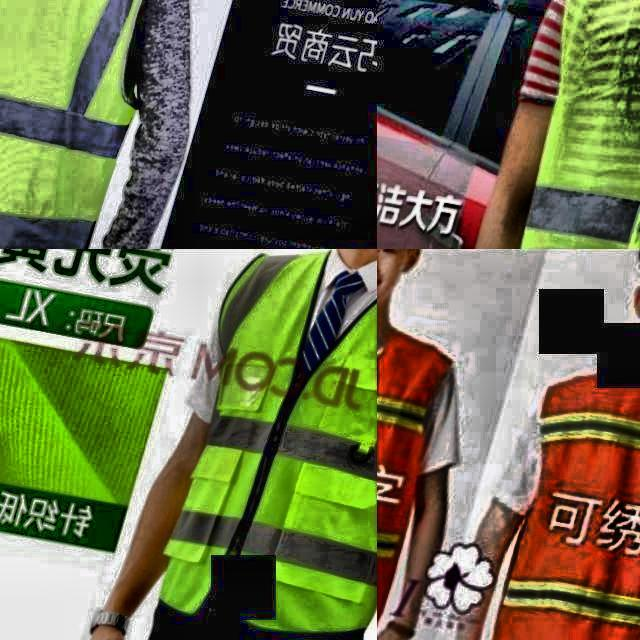safety_jacket: (161, 249, 377, 640), (0, 0, 198, 249), (479, 361, 640, 640), (472, 0, 640, 249), (377, 309, 473, 635)
